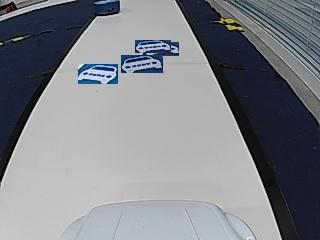prop: (94, 1, 120, 16)
